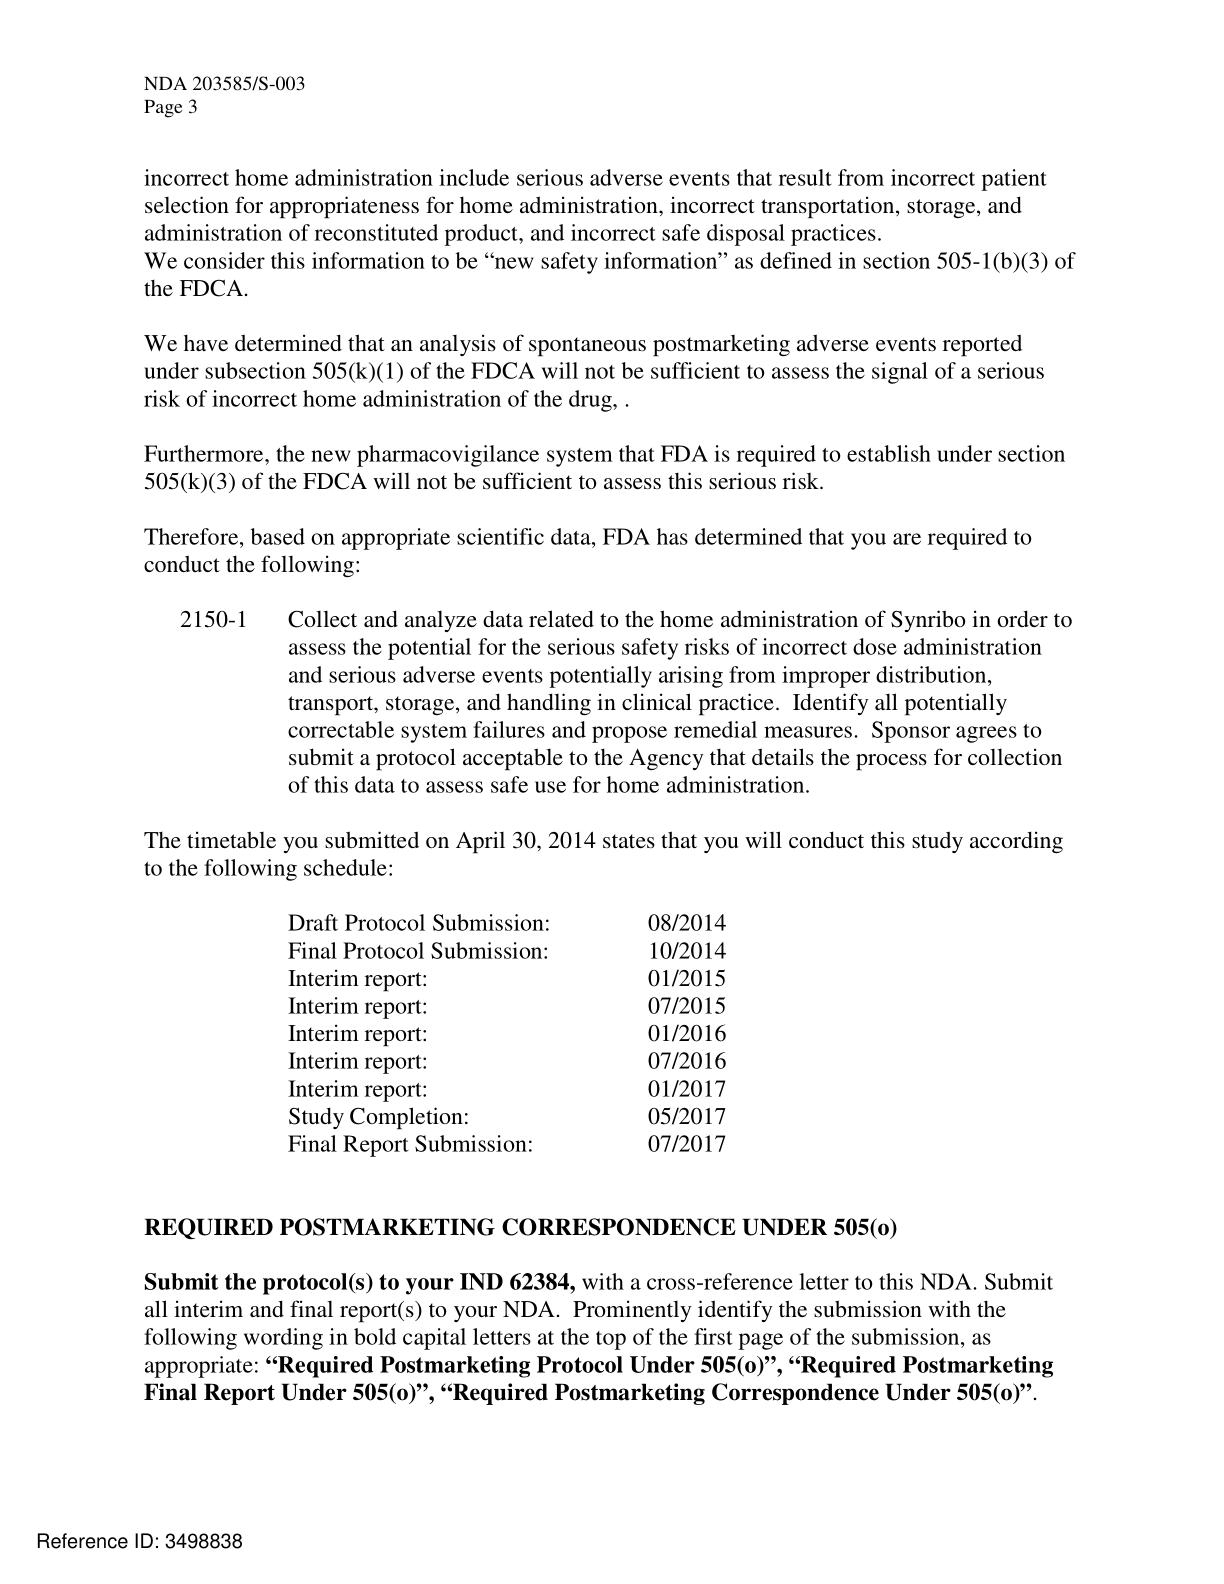nolines: (283, 910, 730, 1157)
